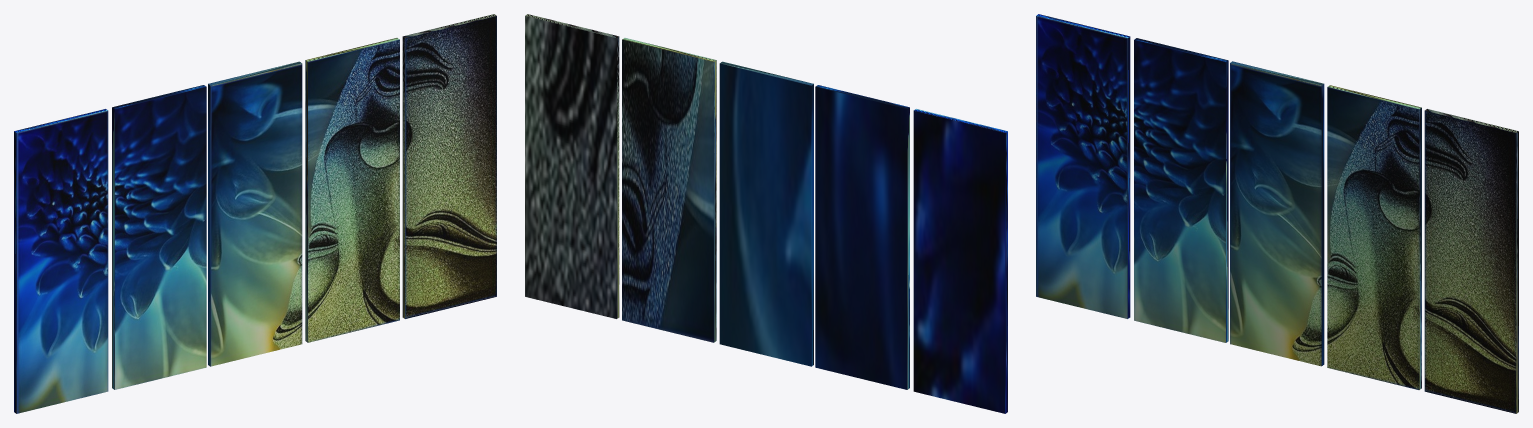
Rendered from Multiple_Frames_Buddha_Art_Wall_Painting.obj.
The picture shows the model from 3 angles, left to right: view 1: azimuth 30°, elevation 25°; view 2: azimuth 150°, elevation 25°; view 3: azimuth 330°, elevation 25°; orthographic projection.
Parts seen in each view (by area): view 1: Cube.002_Cube.008, Cube.001_Cube.007, Cube.005, Cube.004, Cube; view 2: Cube.002_Cube.008, Cube.001_Cube.007, Cube.005, Cube.004, Cube; view 3: Cube.002_Cube.008, Cube.001_Cube.007, Cube.005, Cube.004, Cube.
Boxes of the visible parts, x1,y1,x2,y2 form: Cube.002_Cube.008: [208, 61, 302, 366]; Cube.001_Cube.007: [112, 85, 206, 389]; Cube.005: [402, 14, 496, 318]; Cube.004: [305, 38, 399, 342]; Cube: [14, 109, 108, 413]; Cube.002_Cube.008: [719, 61, 813, 366]; Cube.001_Cube.007: [815, 85, 909, 389]; Cube.005: [525, 14, 619, 318]; Cube.004: [622, 38, 716, 342]; Cube: [913, 109, 1007, 413]; Cube.002_Cube.008: [1230, 61, 1324, 366]; Cube.001_Cube.007: [1134, 38, 1228, 342]; Cube.005: [1424, 109, 1518, 413]; Cube.004: [1327, 85, 1421, 389]; Cube: [1036, 14, 1130, 318].
Size of the model in its own units: 136 by 76 by 1.27.
Materials: 5 (5 with a texture image).
